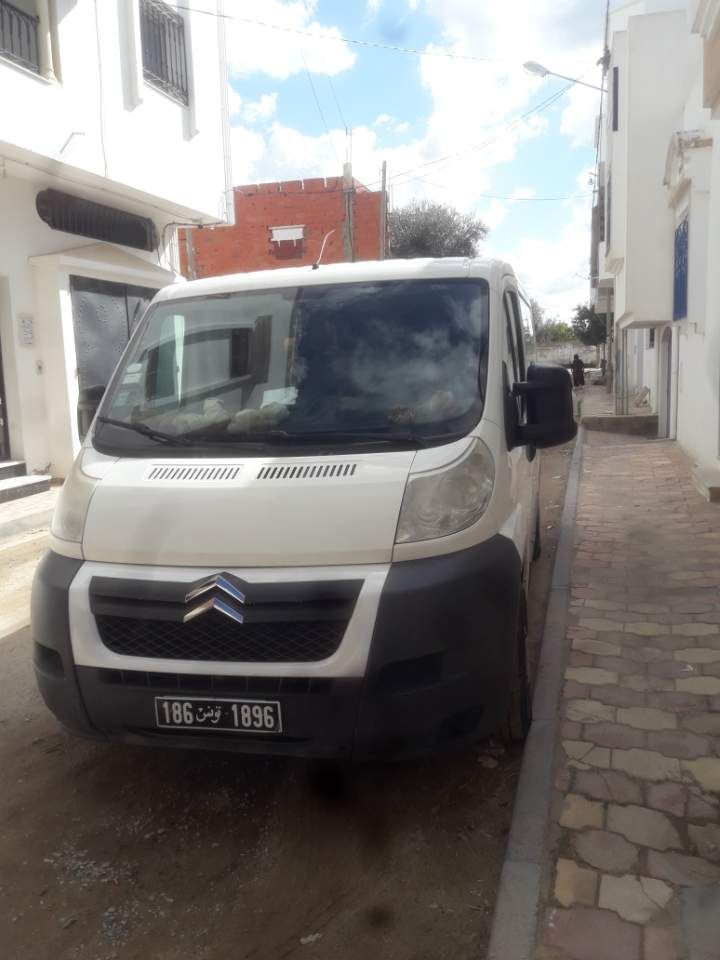LP: (153, 694, 284, 734)
